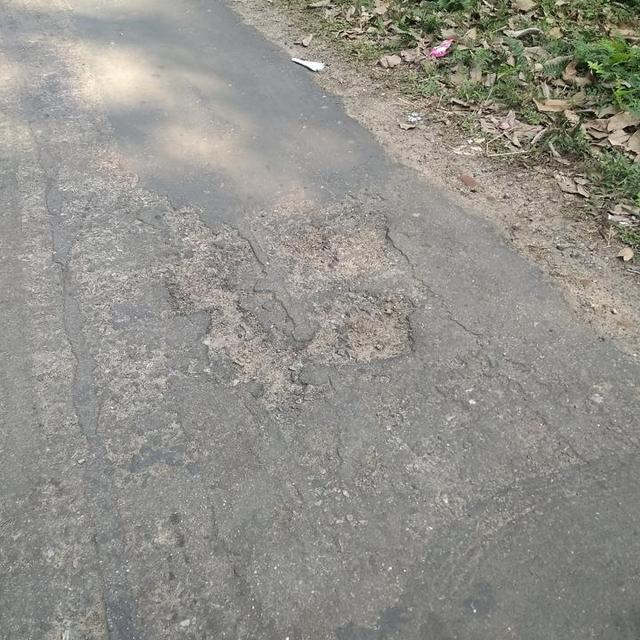Pothole: (155, 198, 434, 413)
